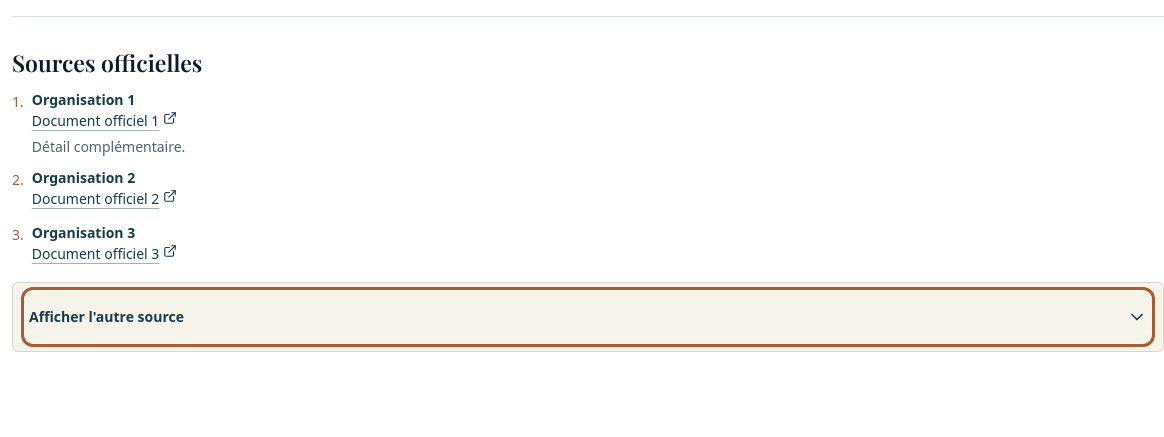
Scenario: ArticleSources › renders four sources with the first three visible and one additional source in details
expect the element showing "Afficher l'autre source" is shown: met, box [12,282,1163,352]
Click the heading "Afficher l'autre source".
click(106, 317)  # box [29,307,1147,327]
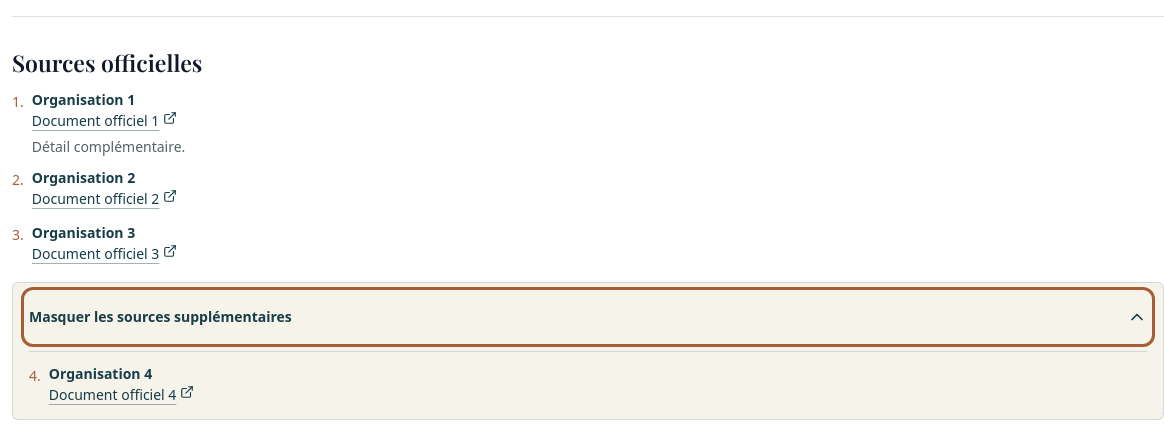
expect the element that starts with "Masquer les sources supplémentaires" has attribute open: met, box [12,282,1163,420]
Click the heading "Masquer les sources supplémentaires".
click(160, 317)  # box [29,307,1147,327]
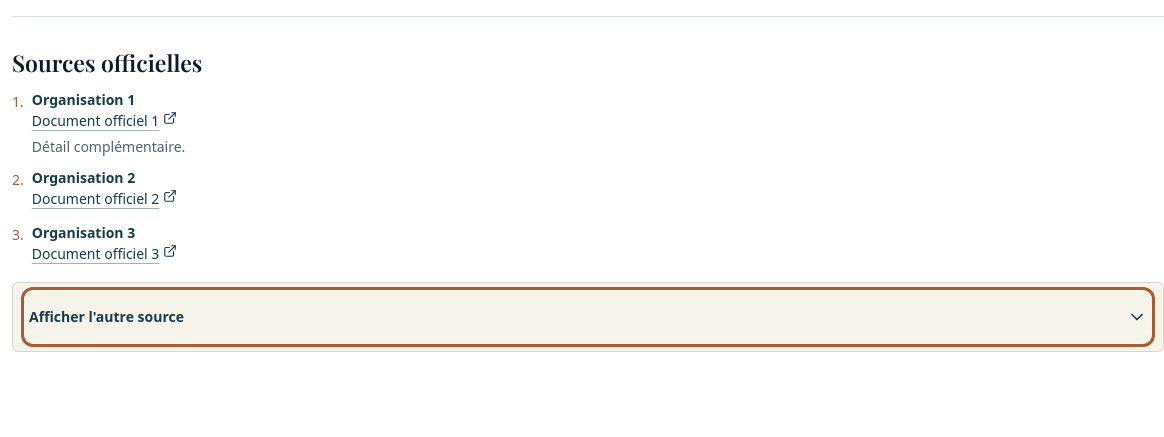
expect the element showing "Afficher l'autre source" does not have attribute open: met, box [12,282,1163,352]
